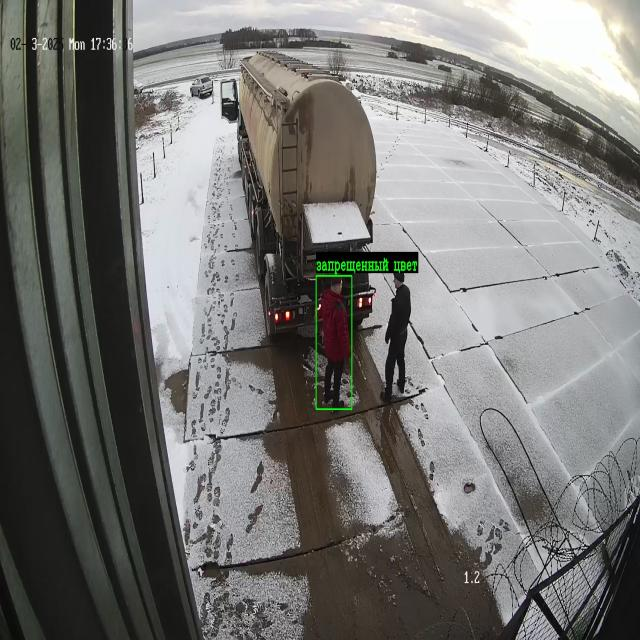Red uniform: (318, 279, 350, 408), (384, 273, 411, 401)
